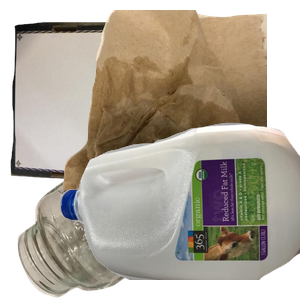cardboard: (10, 19, 250, 199)
glass: (15, 126, 229, 300)
plastic: (60, 120, 300, 300)
trash: (60, 10, 300, 190)
